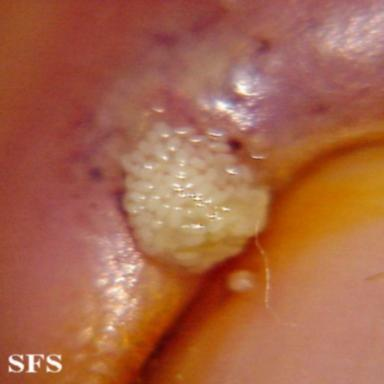Tungiasis: (122, 122, 269, 273), (228, 270, 254, 292)
